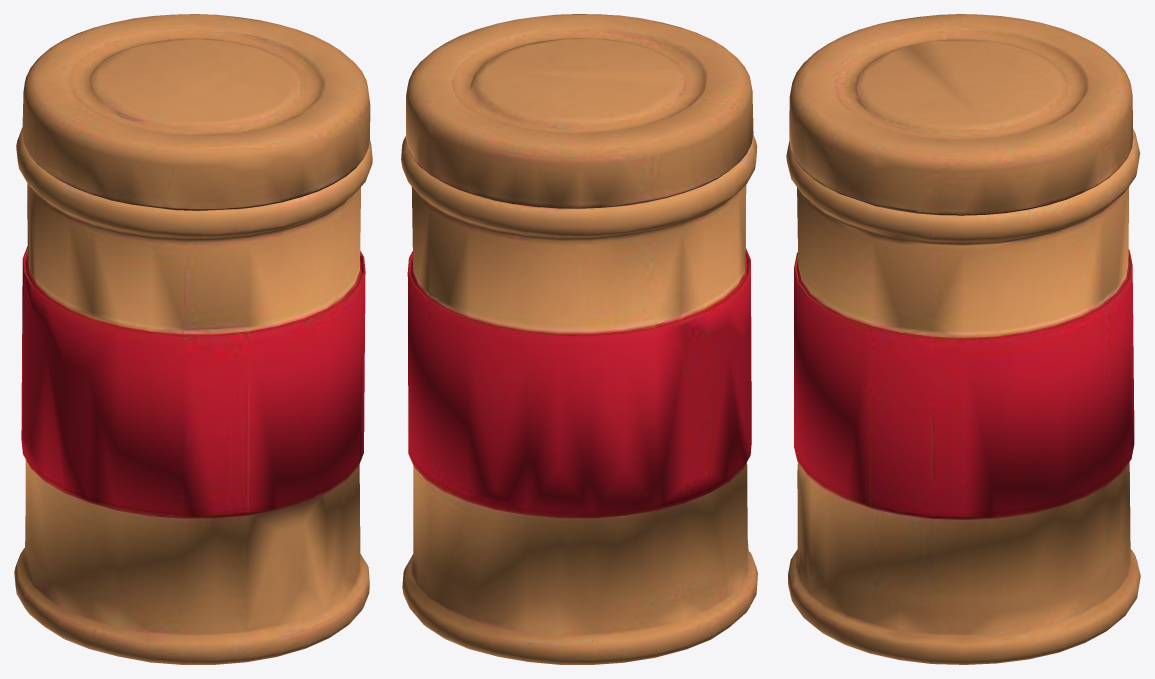
Rendered from tin.glb.
The picture shows the model from 3 angles, left to right: view 1: azimuth 30°, elevation 25°; view 2: azimuth 150°, elevation 25°; view 3: azimuth 270°, elevation 25°; orthographic projection.
Parts seen in each view (by area): view 1: Model; view 2: Model; view 3: Model.
Boxes of the visible parts, bbox=[...] form: Model: bbox=[14, 14, 372, 664]; Model: bbox=[401, 14, 757, 664]; Model: bbox=[786, 14, 1140, 664].
Size of the model in its own units: 0.6172 by 0.9995 by 0.6167.
1 material, 1 textured.
